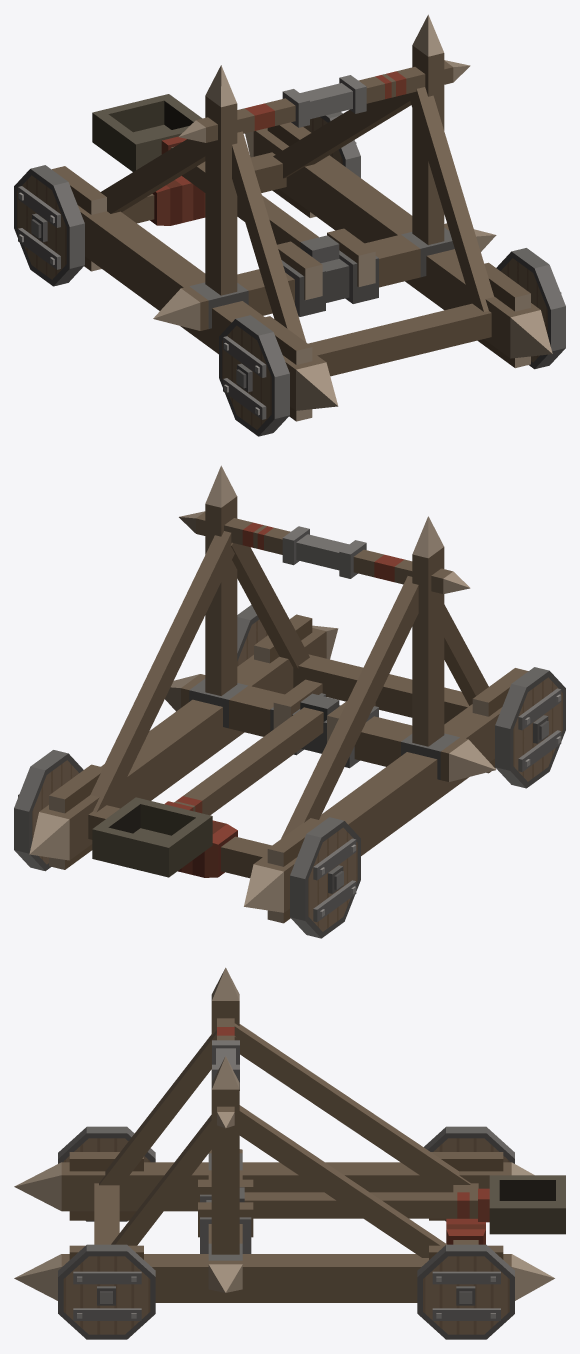
The model's file is SF_Veh_Goblin_Mangonel_01.fbx.
The picture shows the model from 3 angles, top to bottom: view 1: azimuth 30°, elevation 25°; view 2: azimuth 150°, elevation 25°; view 3: azimuth 270°, elevation 25°; orthographic projection. The views are drawn at different scales.
Visible parts, largest first — view 1: SF_Veh_Goblin_Mangonel_01, SF_Veh_Goblin_Mangonel_Arm, SF_Veh_Goblin_Mangonel_WheelFR, SF_Veh_Goblin_Mangonel_WheelBR, SF_Veh_Goblin_Mangonel_WheelFL, SF_Veh_Goblin_Mangonel_WheelBL; view 2: SF_Veh_Goblin_Mangonel_01, SF_Veh_Goblin_Mangonel_Arm, SF_Veh_Goblin_Mangonel_WheelBR, SF_Veh_Goblin_Mangonel_WheelFR, SF_Veh_Goblin_Mangonel_WheelBL, SF_Veh_Goblin_Mangonel_WheelFL; view 3: SF_Veh_Goblin_Mangonel_01, SF_Veh_Goblin_Mangonel_Arm, SF_Veh_Goblin_Mangonel_WheelBL, SF_Veh_Goblin_Mangonel_WheelFL, SF_Veh_Goblin_Mangonel_WheelBR, SF_Veh_Goblin_Mangonel_WheelFR.
Boxes of the visible parts, box(x1,y1,x2,y2) form: SF_Veh_Goblin_Mangonel_01: box(52, 14, 552, 421); SF_Veh_Goblin_Mangonel_Arm: box(92, 94, 339, 262); SF_Veh_Goblin_Mangonel_WheelFR: box(219, 315, 289, 436); SF_Veh_Goblin_Mangonel_WheelBR: box(14, 165, 84, 286); SF_Veh_Goblin_Mangonel_WheelFL: box(496, 248, 565, 369); SF_Veh_Goblin_Mangonel_WheelBL: box(303, 112, 360, 177); SF_Veh_Goblin_Mangonel_01: box(29, 465, 528, 923); SF_Veh_Goblin_Mangonel_Arm: box(92, 693, 339, 877); SF_Veh_Goblin_Mangonel_WheelBR: box(290, 817, 360, 938); SF_Veh_Goblin_Mangonel_WheelFR: box(495, 667, 565, 788); SF_Veh_Goblin_Mangonel_WheelBL: box(14, 750, 83, 871); SF_Veh_Goblin_Mangonel_WheelFL: box(237, 605, 267, 666); SF_Veh_Goblin_Mangonel_01: box(14, 967, 554, 1302); SF_Veh_Goblin_Mangonel_Arm: box(239, 1175, 565, 1234); SF_Veh_Goblin_Mangonel_WheelBL: box(417, 1244, 514, 1339); SF_Veh_Goblin_Mangonel_WheelFL: box(58, 1244, 155, 1339); SF_Veh_Goblin_Mangonel_WheelBR: box(424, 1126, 514, 1221); SF_Veh_Goblin_Mangonel_WheelFR: box(58, 1126, 155, 1221).
Bounding box in the file's own units: 6.94 × 5.86 × 11.02.
